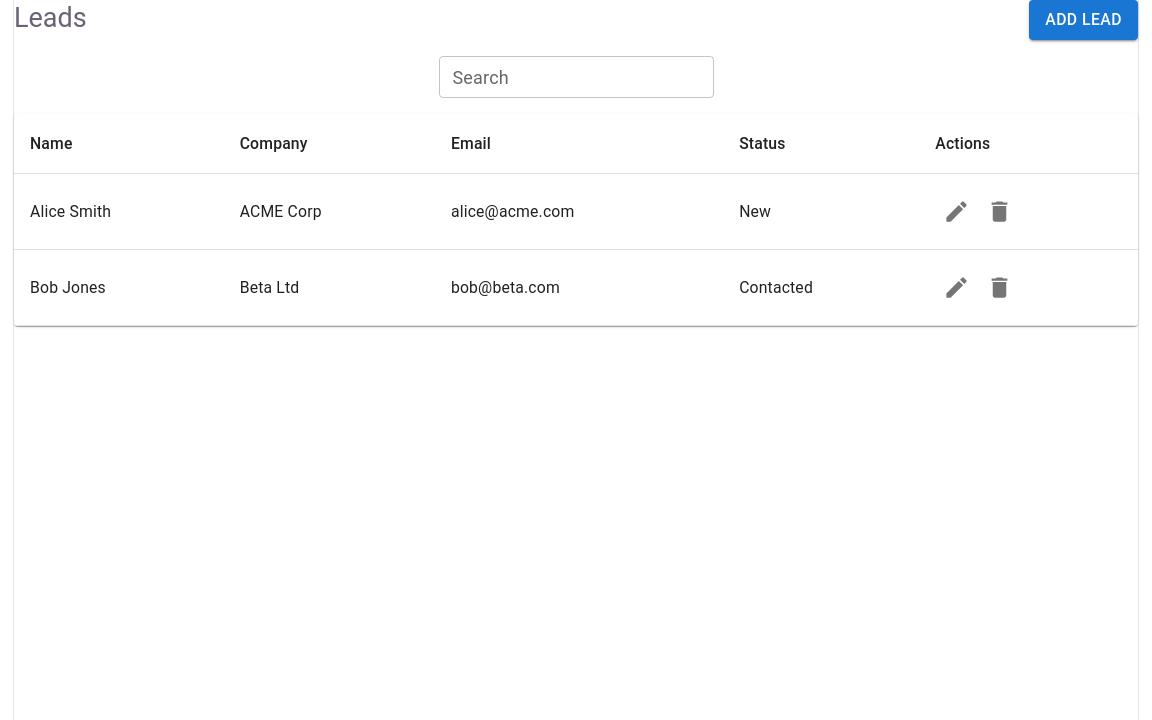
Test case: LeadListPage › closes dialog when Cancel is clicked
Click the 3rd button at [1000, 212], box [978, 190, 1021, 233]
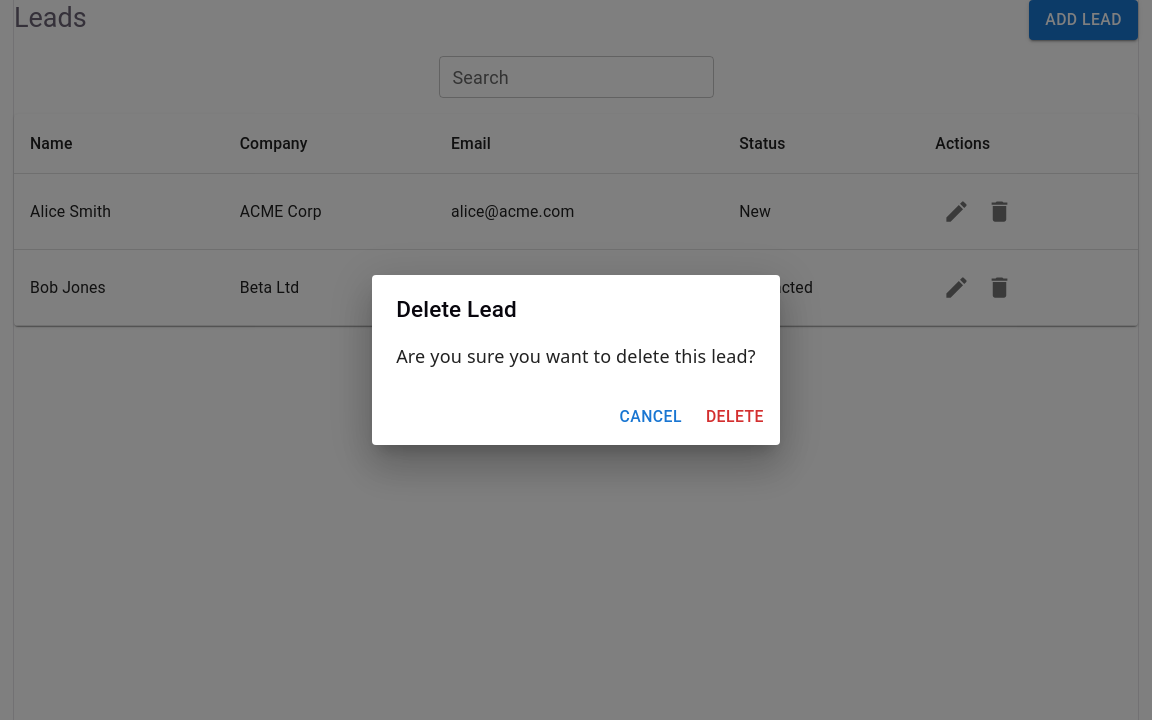
expect the dialog is shown: met, box [372, 275, 780, 445]
Click the button "Cancel" at [651, 417], box [612, 397, 690, 437]
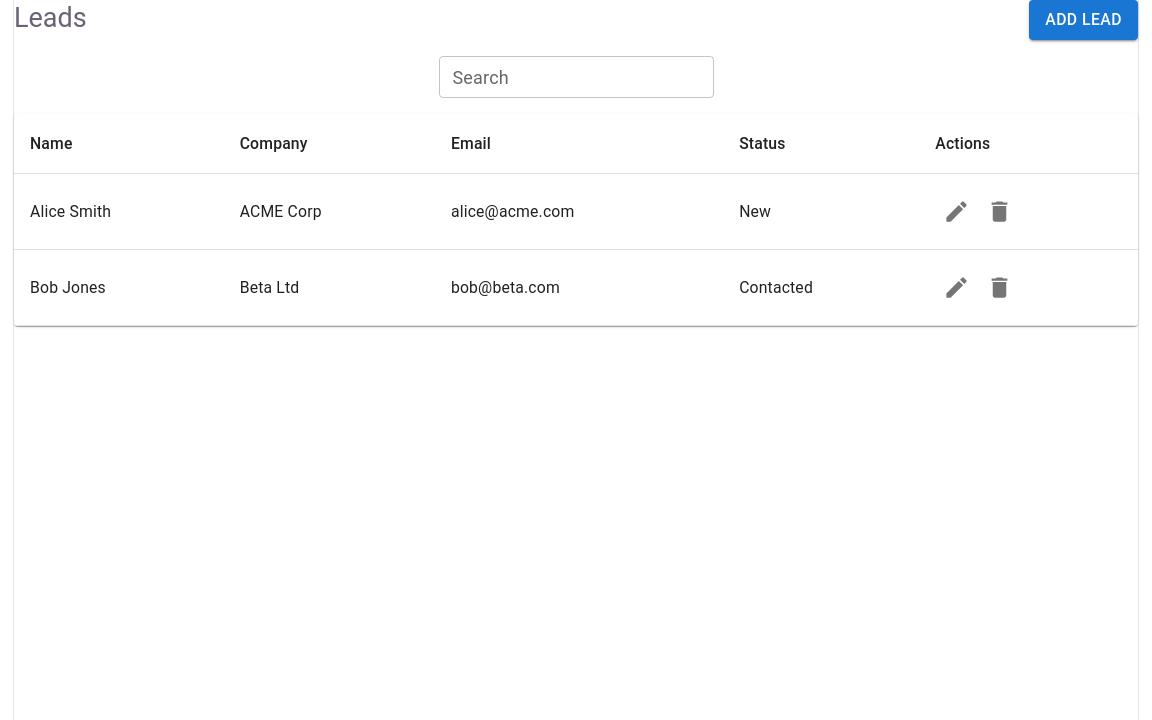
expect the dialog is gone: met
